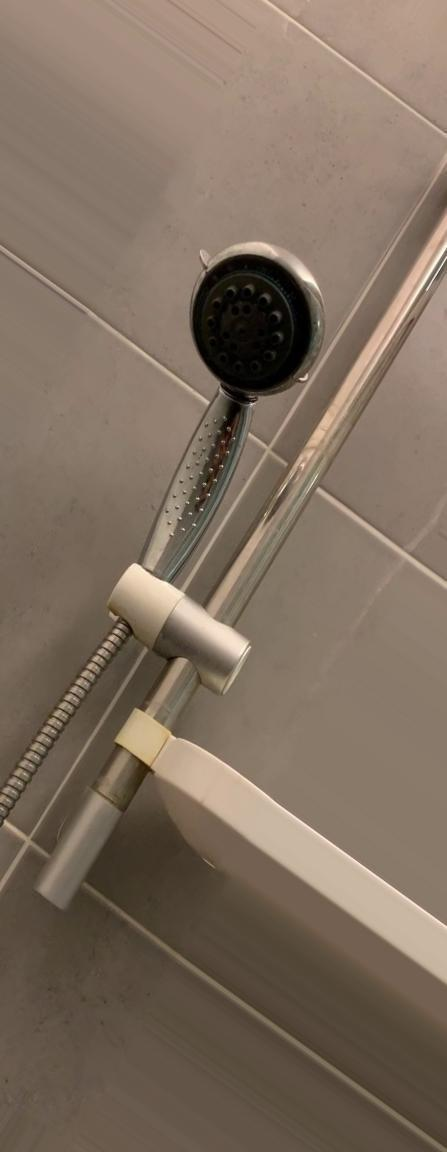Ducha: (0, 0, 446, 1143)
